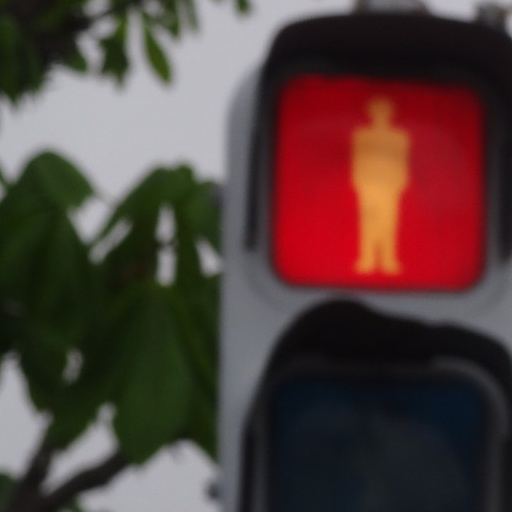Pedestrian_Signal_Red: (261, 19, 503, 500)
